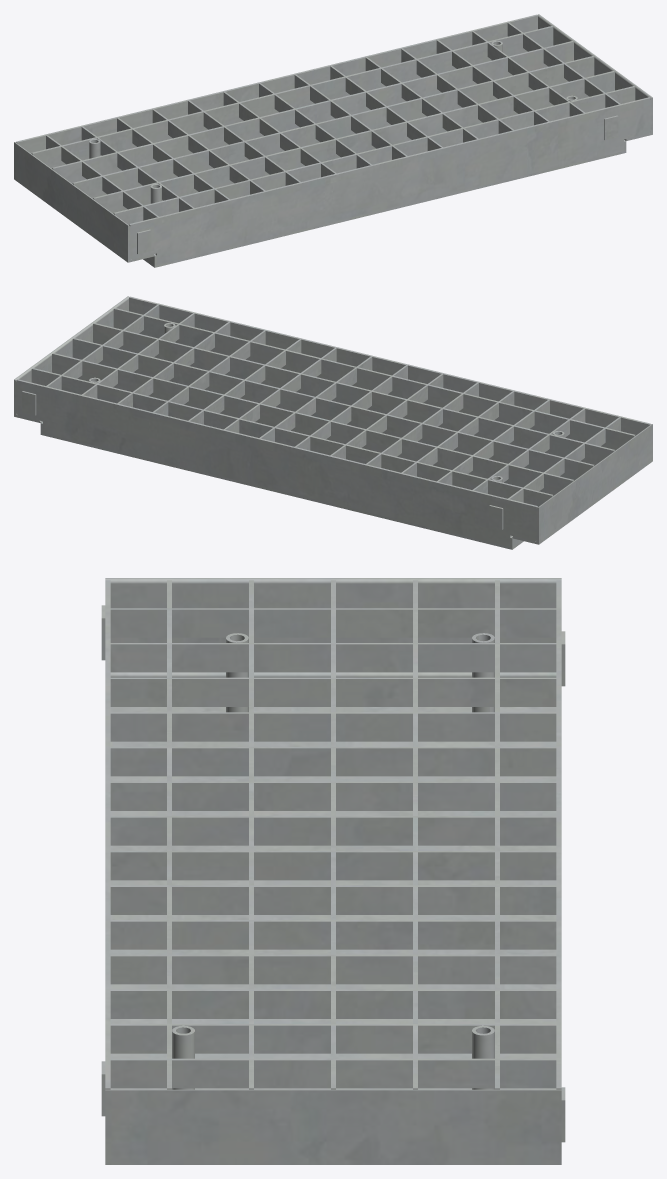
The model's file is ms-recess-type-cover.glb.
The picture shows the model from 3 angles, top to bottom: view 1: azimuth 30°, elevation 25°; view 2: azimuth 150°, elevation 25°; view 3: azimuth 270°, elevation 25°; orthographic projection. The views are drawn at different scales.
Parts seen in each view (by area): view 1: NAUO9_high; view 2: NAUO9_high; view 3: NAUO9_high.
Part boxes in pixels (<box>): NAUO9_high: <box>14,14,652,267</box>; NAUO9_high: <box>14,296,652,549</box>; NAUO9_high: <box>101,578,565,1164</box>.
Bounding box in the file's own units: 1.51 × 0.1344 × 0.5789.
1 material, 1 textured.
